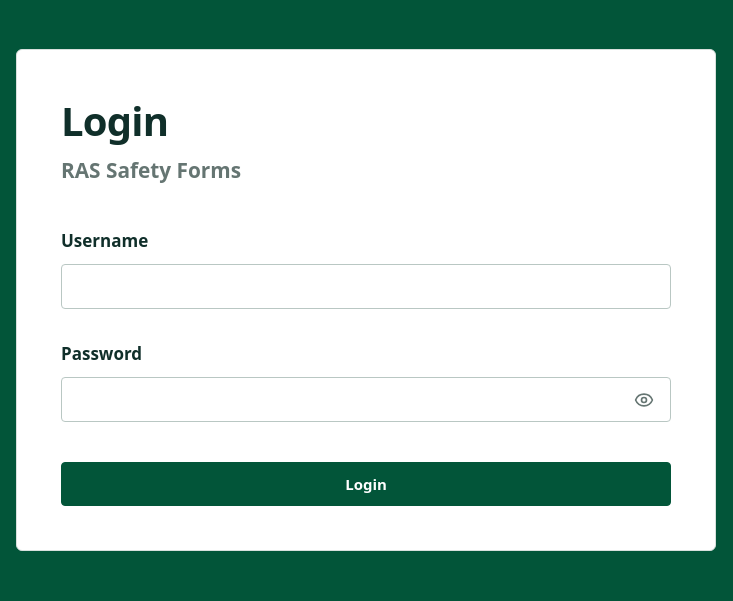
Test: LoginPage › shows a generic message for wrong credentials
The width and height of the screenshot is (733, 601).
Step 1. Type "alex" into the field labelled "Username" → (366, 287), box [61,264,671,309]
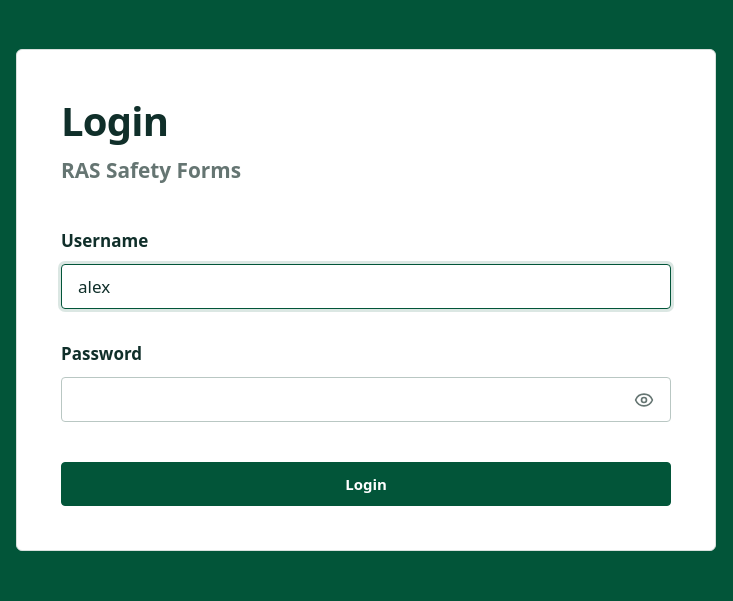
Step 2. Type "secret-pass1!" into the password field labelled "Password" → (366, 400), box [61,377,671,422]
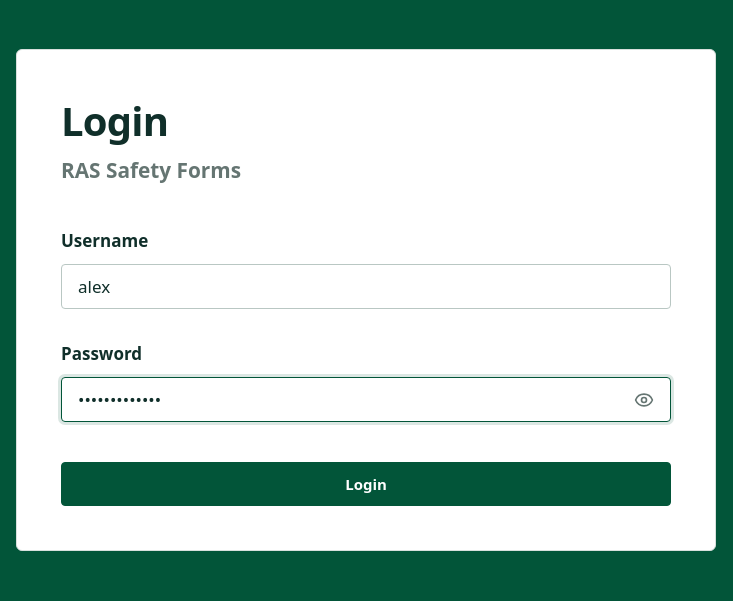
Step 3. Click the button "Login" → click(366, 484), box [61,462,671,506]
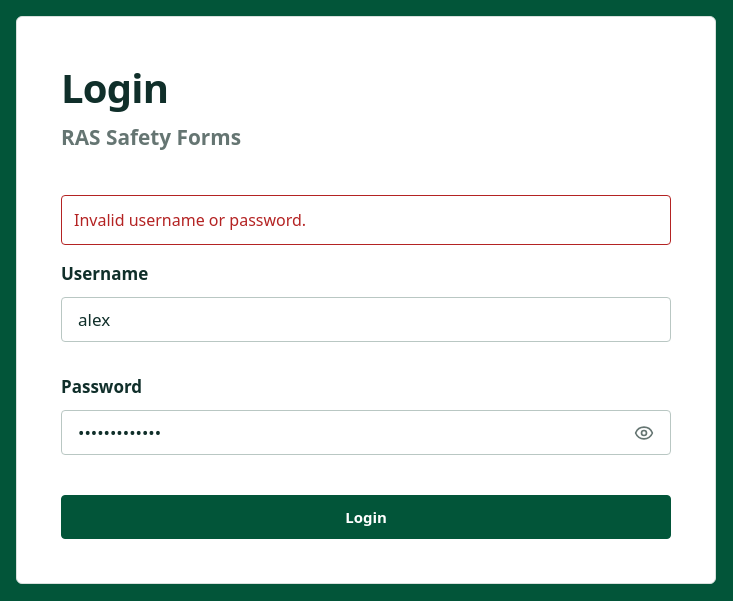
Expected: the message reads "Invalid username or password.", [74,209,306,231]
